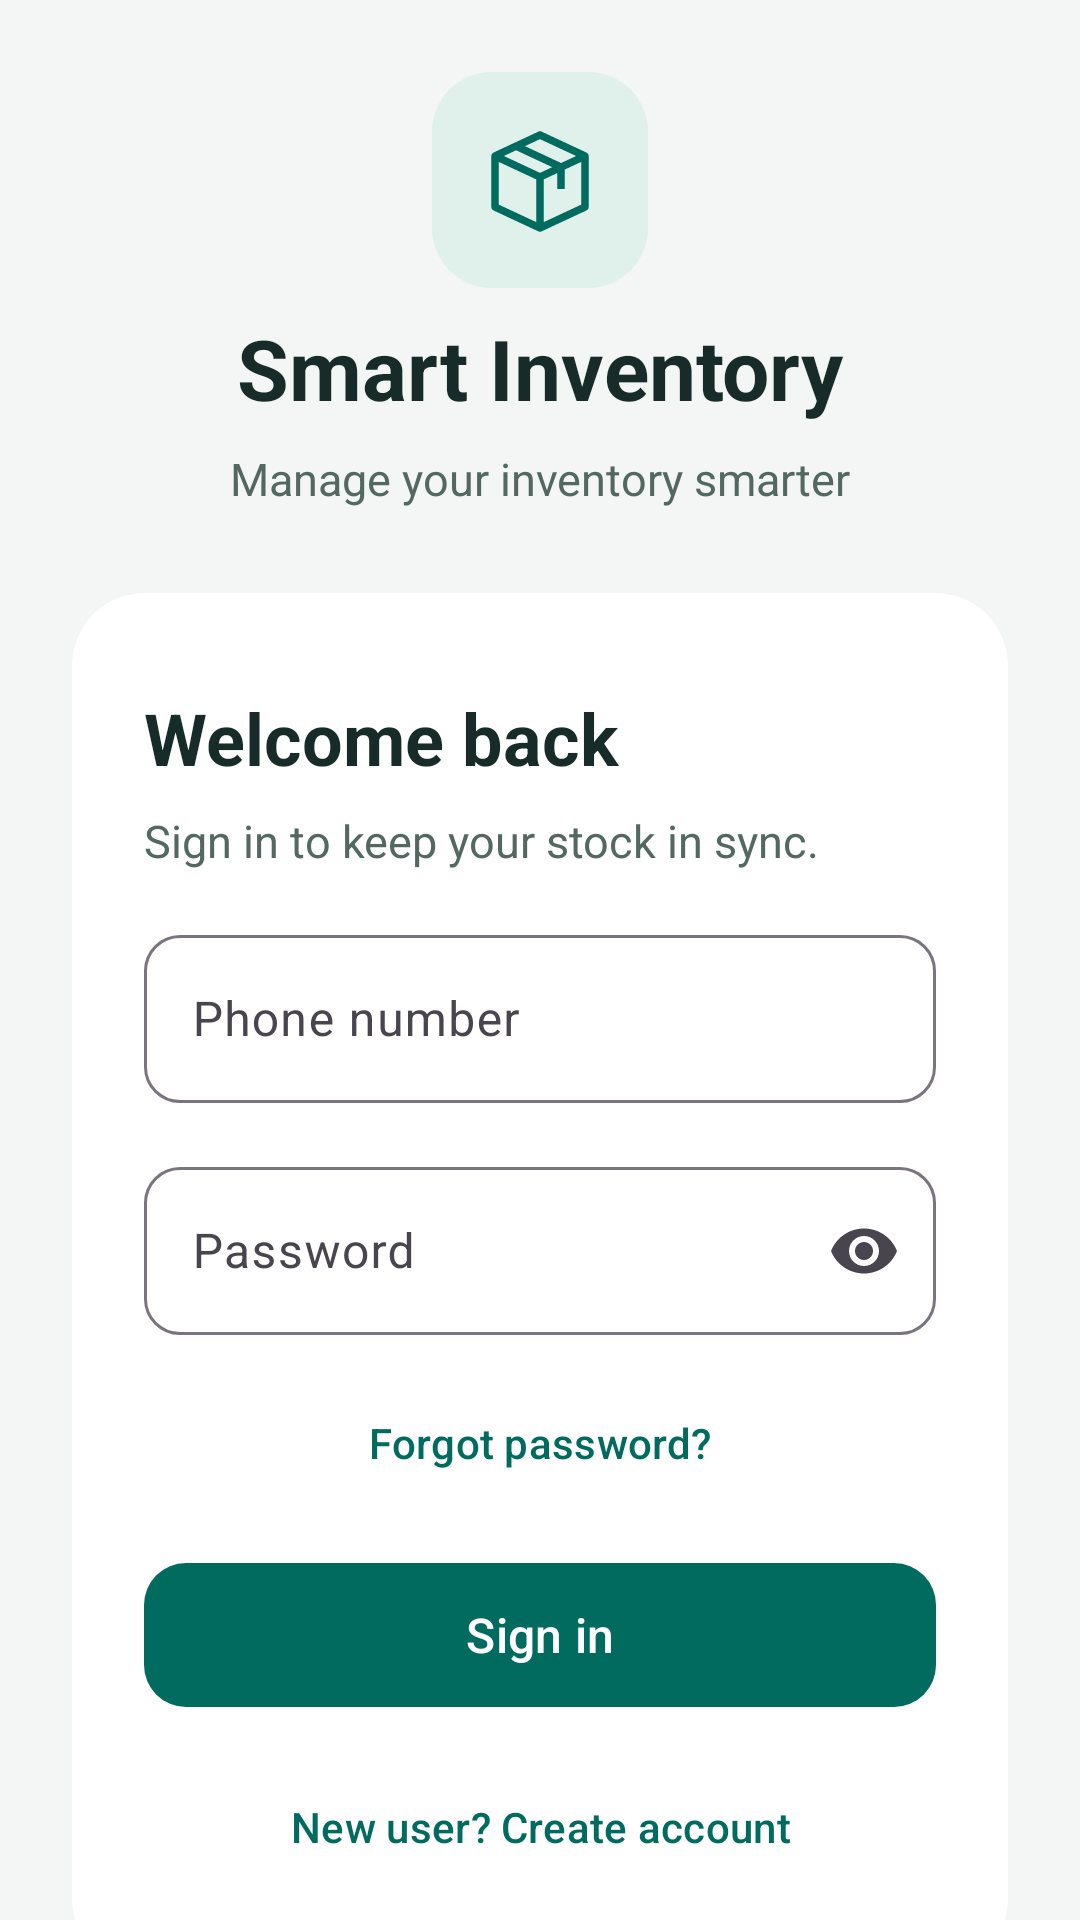

Point at icon controls on the screen. Image size 1080×1920, points as (x,y).
inventory mark: (540,180)
